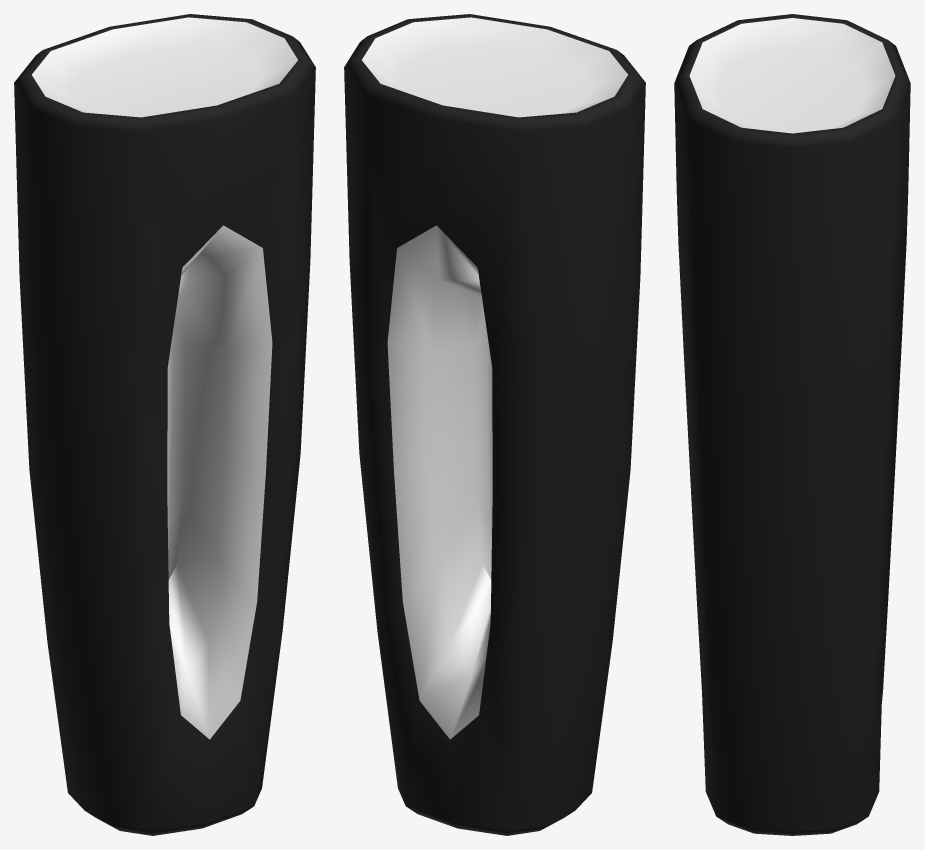
File: prop_016.fbx
The picture shows the model from 3 angles, left to right: view 1: azimuth 30°, elevation 25°; view 2: azimuth 150°, elevation 25°; view 3: azimuth 270°, elevation 25°; orthographic projection.
Visible parts, largest first — view 1: prop_016; view 2: prop_016; view 3: prop_016.
Boxes of the visible parts, x1,y1,x2,y2 form: prop_016: (14, 14, 315, 835); prop_016: (344, 14, 645, 835); prop_016: (674, 14, 910, 835).
Size of the model in its own units: 16.88 by 12.91 by 43.82.
